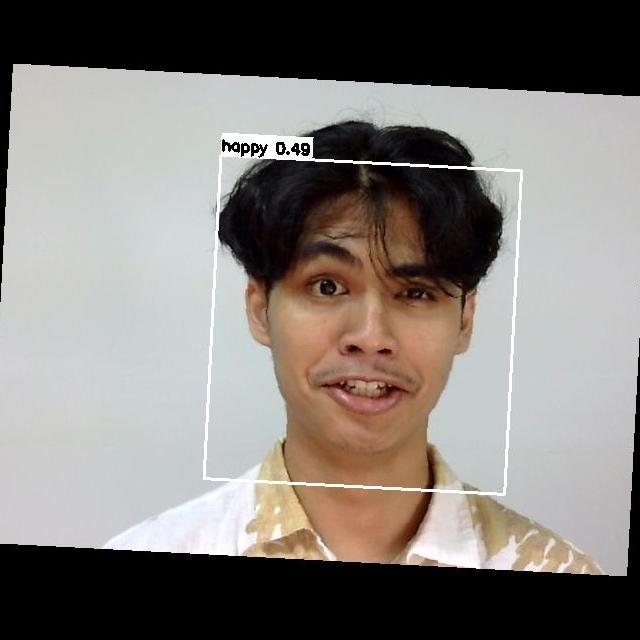Fear: (255, 220, 476, 423)
